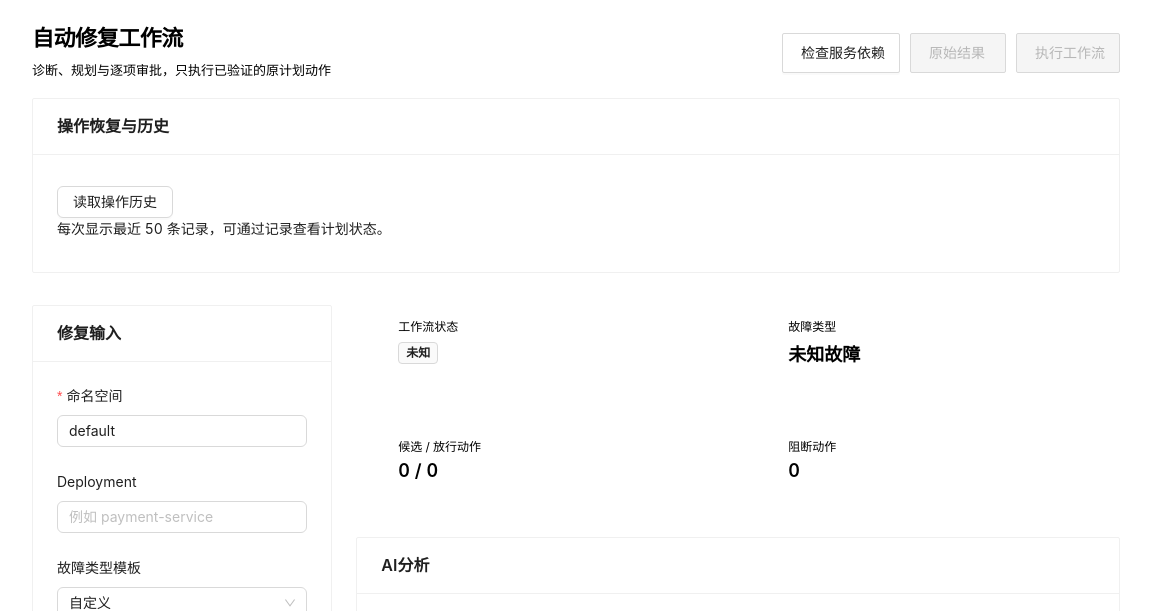
自动修复页面的显式调用和审批状态 › 状态加载失败清除旧健康与服务资料
What coordinates should you click on to do the following:
click the button "检查服务依赖"
I would click on:
 (841, 53)
Its box is x1=782 y1=33 x2=900 y2=73.
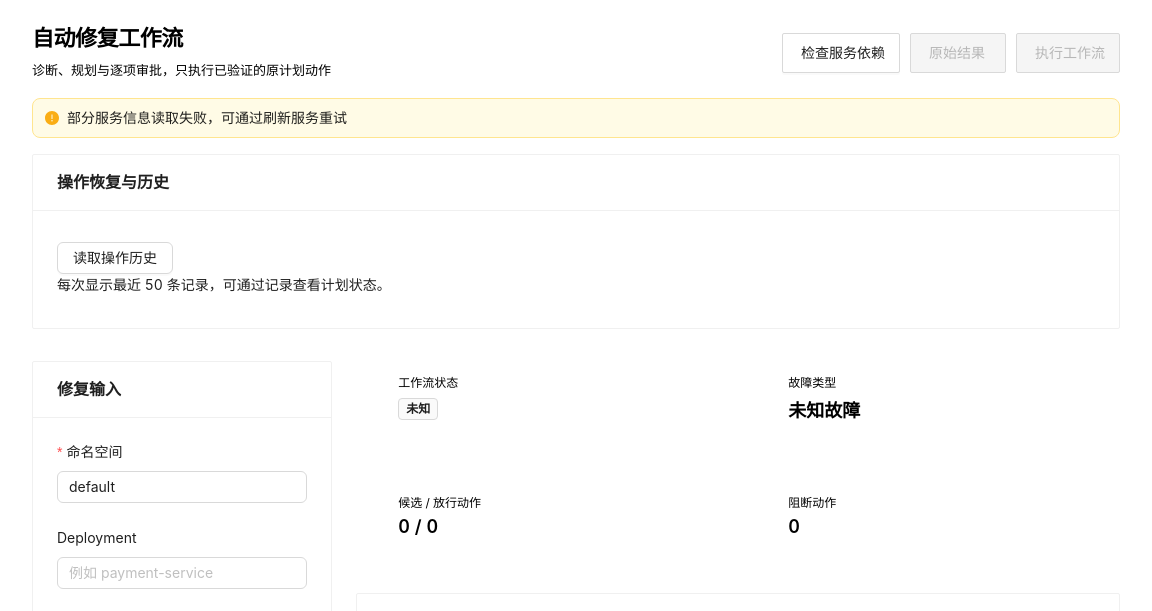
expect the message "部分服务信息读取失败，可通过刷新服务重试" is shown: met, box x1=32 y1=98 x2=1120 y2=138
